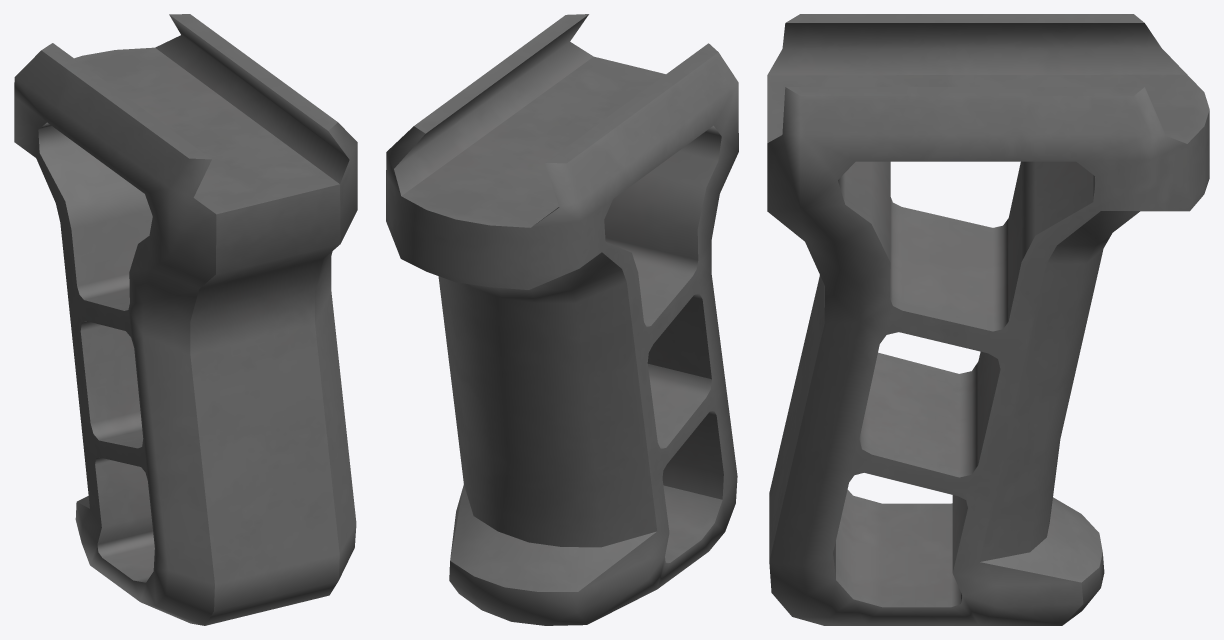
File: IG_Acc_Grip_ALL_REC_4.fbx
The picture shows the model from 3 angles, left to right: view 1: azimuth 30°, elevation 25°; view 2: azimuth 150°, elevation 25°; view 3: azimuth 270°, elevation 25°; orthographic projection. The views are drawn at different scales.
Visible parts, largest first — view 1: Acc_Grip_ALL_REC_4; view 2: Acc_Grip_ALL_REC_4; view 3: Acc_Grip_ALL_REC_4.
Part boxes in pixels (bbox=[...]): Acc_Grip_ALL_REC_4: bbox=[14, 14, 357, 625]; Acc_Grip_ALL_REC_4: bbox=[386, 14, 738, 625]; Acc_Grip_ALL_REC_4: bbox=[767, 14, 1209, 625].
Bounding box in the file's own units: 0.068 × 0.1655 × 0.1227.
